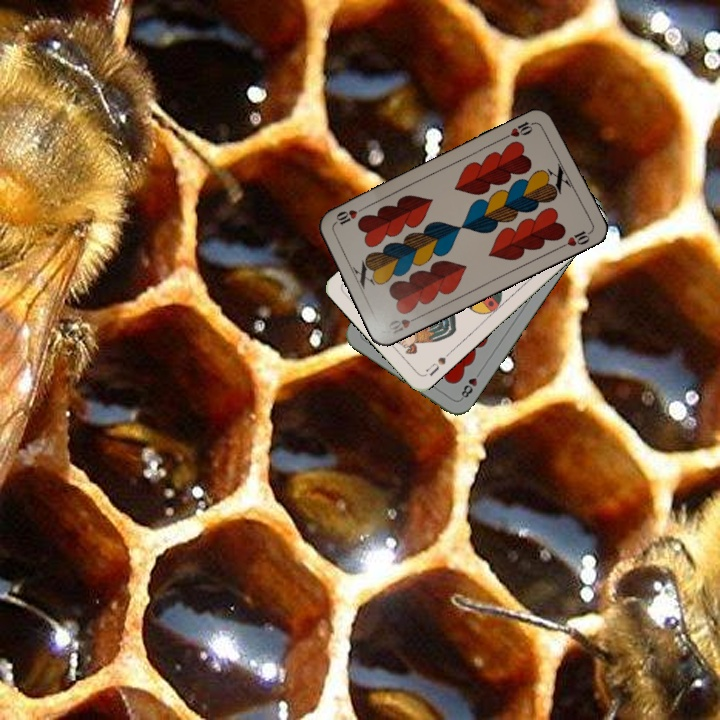H10: (384, 311, 423, 337), (500, 117, 538, 141)
H8: (457, 366, 484, 402)
SU: (422, 347, 454, 379)
